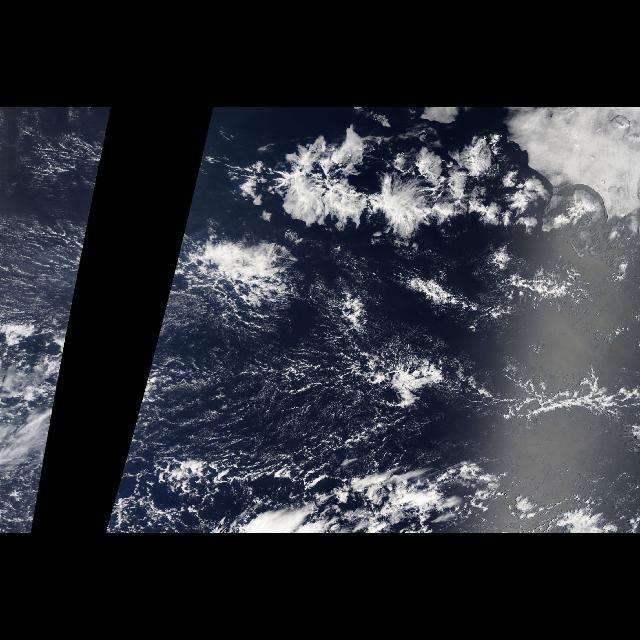Fish: (396, 326, 636, 464)
Flower: (168, 120, 564, 302)
Gravel: (166, 318, 378, 472)
Sugar: (128, 312, 398, 461)
